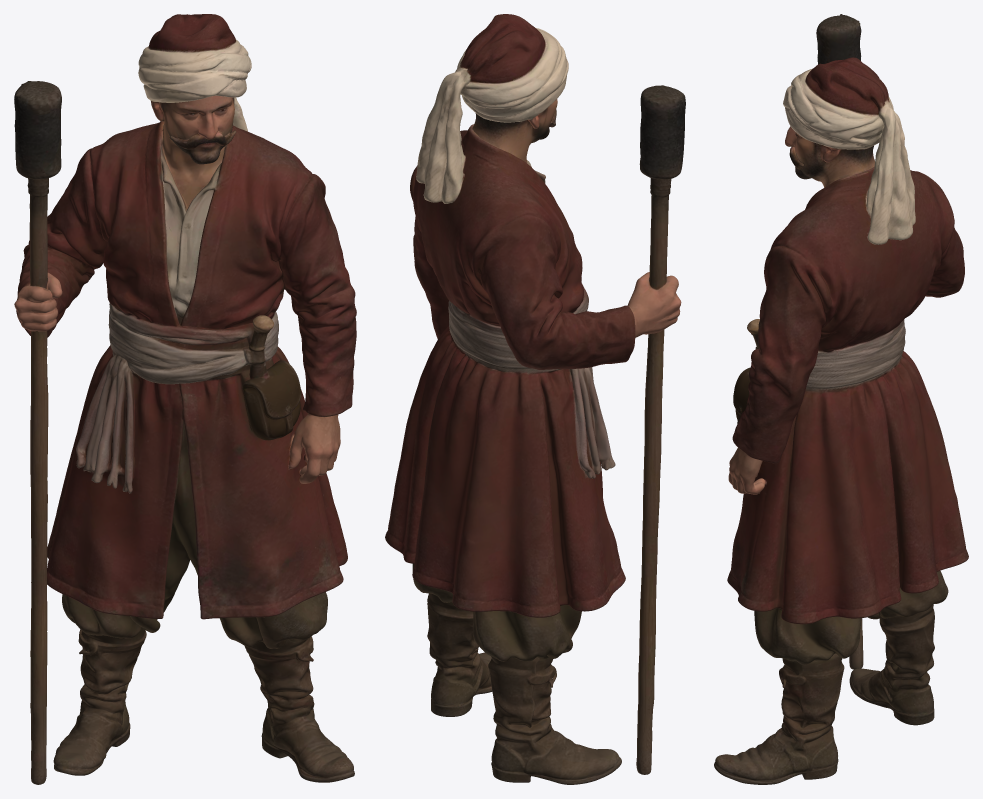
The model's file is topcu-ocagi-1550-1600-v1.glb.
3 renders of one model, left to right at view 1: azimuth 30°, elevation 25°; view 2: azimuth 150°, elevation 25°; view 3: azimuth 270°, elevation 25°, orthographic. The views are drawn at different scales.
Parts seen in each view (by area): view 1: tripo_node_cc0aeb27-4588-4377-be51-9ae38a6de59b; view 2: tripo_node_cc0aeb27-4588-4377-be51-9ae38a6de59b; view 3: tripo_node_cc0aeb27-4588-4377-be51-9ae38a6de59b.
Boxes of the visible parts, <box> form: tripo_node_cc0aeb27-4588-4377-be51-9ae38a6de59b: <box>14,14,356,784</box>; tripo_node_cc0aeb27-4588-4377-be51-9ae38a6de59b: <box>385,14,685,784</box>; tripo_node_cc0aeb27-4588-4377-be51-9ae38a6de59b: <box>714,14,968,784</box>.
Bounding box in the file's own units: 0.4339 × 1 × 0.3409.
1 material, 1 textured.
